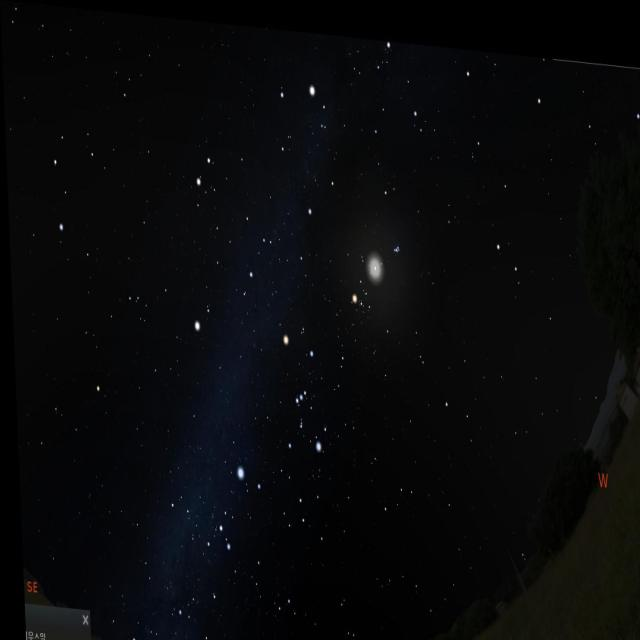canis_major: (206, 450, 266, 558)
canis_minor: (191, 296, 215, 343)
gemini: (194, 149, 273, 286)
moon: (363, 240, 382, 278)
orion: (272, 315, 326, 462)
pleiades: (388, 230, 402, 253)
taurus: (344, 208, 410, 326)
